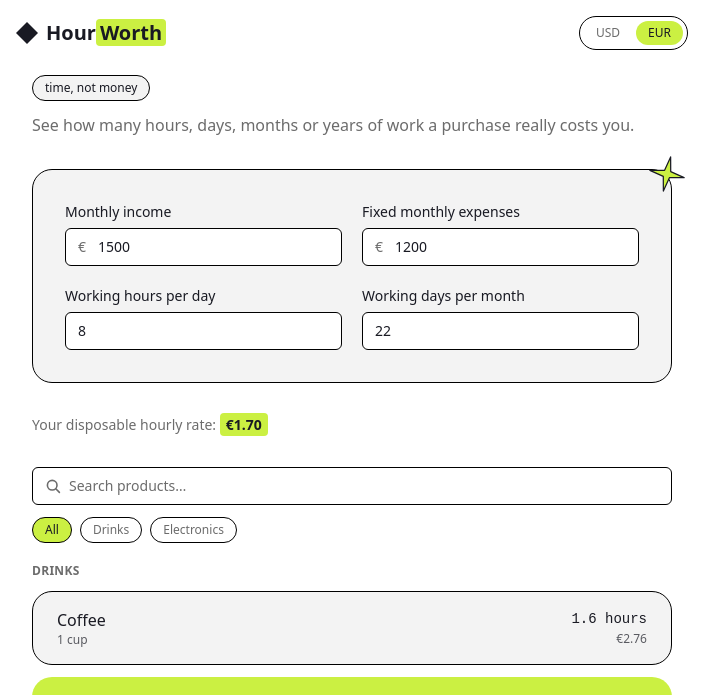
Test: App › recalculates the hourly rate when income changes
Expected: the text "Coffee" is shown, left=57, top=608, right=106, bottom=632
Step 1. Replace the text in the number field labelled "Monthly income €" with "3000" → (214, 247), box left=86, top=229, right=341, bottom=265
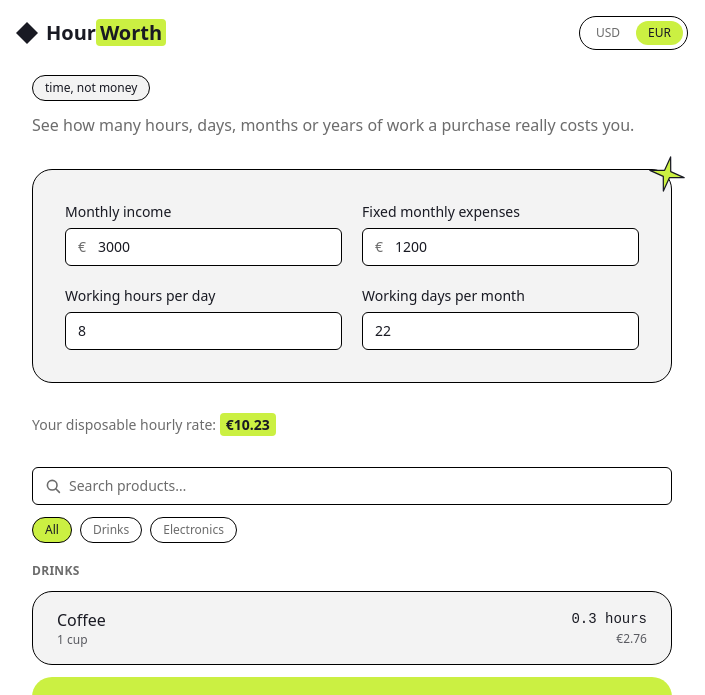
Expected: the text "€10.23" is shown, left=220, top=413, right=276, bottom=436
